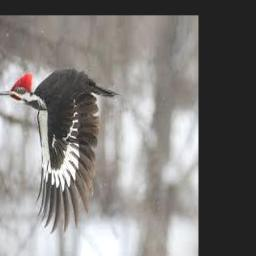Woodpecker: (0, 70, 118, 231)
